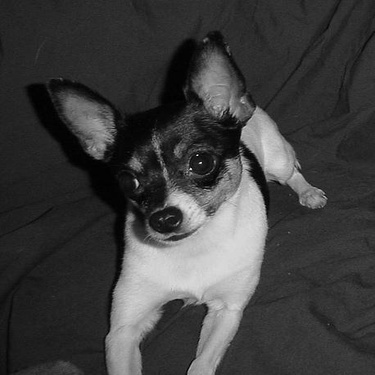dog: (31, 19, 334, 373)
